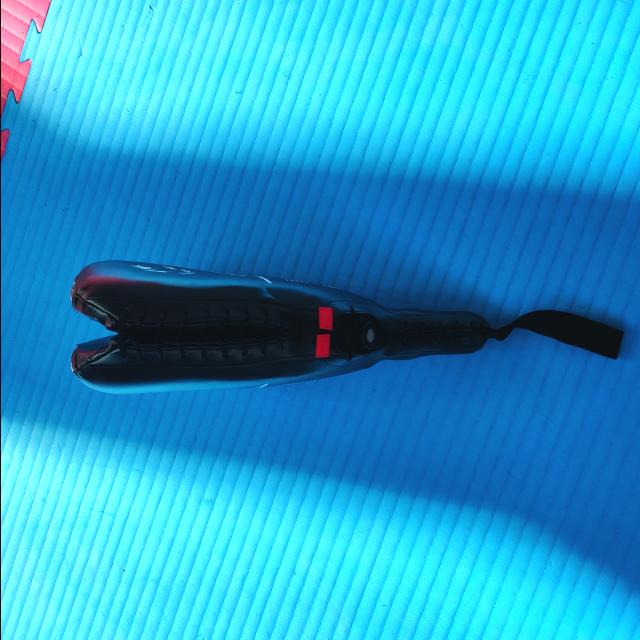paddle: (62, 253, 488, 399)
